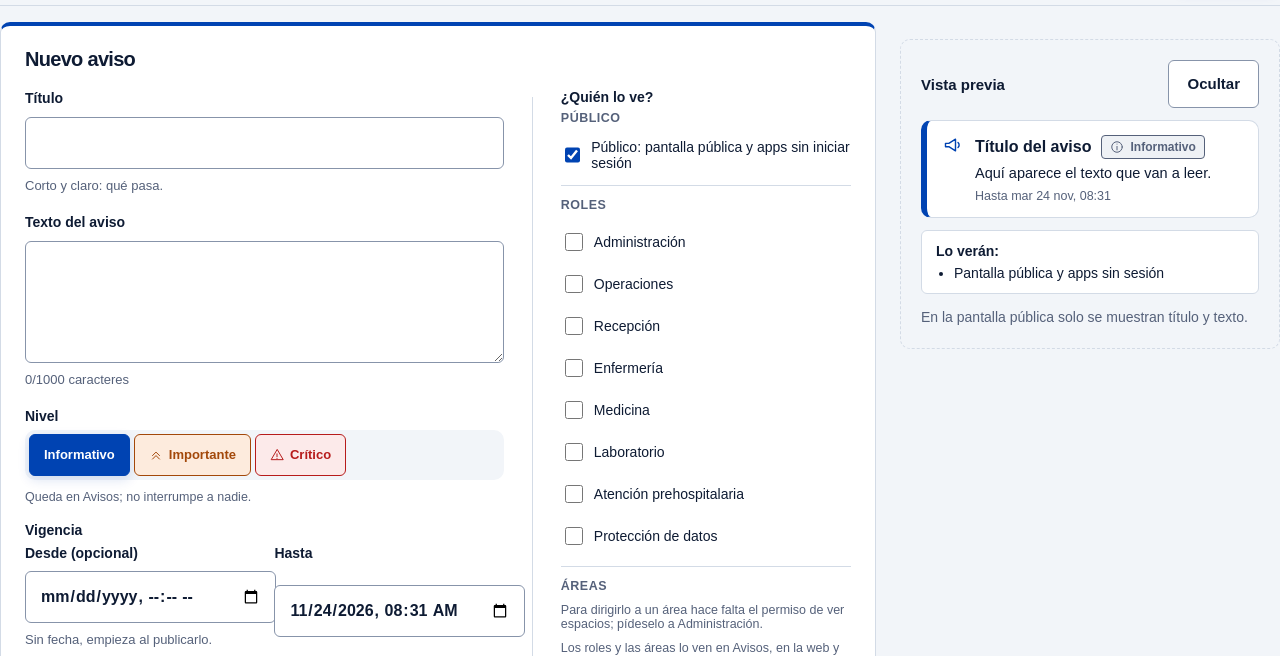
W25 · avisos generales › no deja publicar sin audiencia
In the field labelled "Título": {"x": 264, "y": 143} [25, 117, 504, 169], type "Aviso"
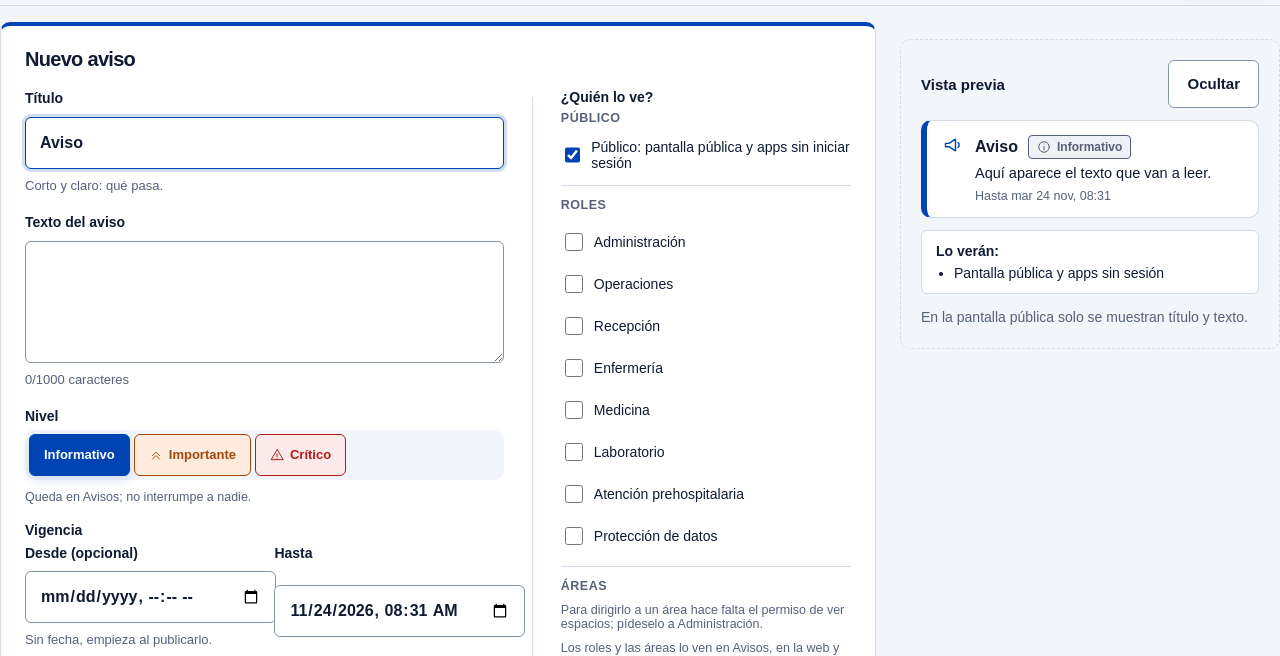
In the text box labelled "Texto del aviso": {"x": 264, "y": 302} [25, 241, 504, 363], type "Texto del aviso."
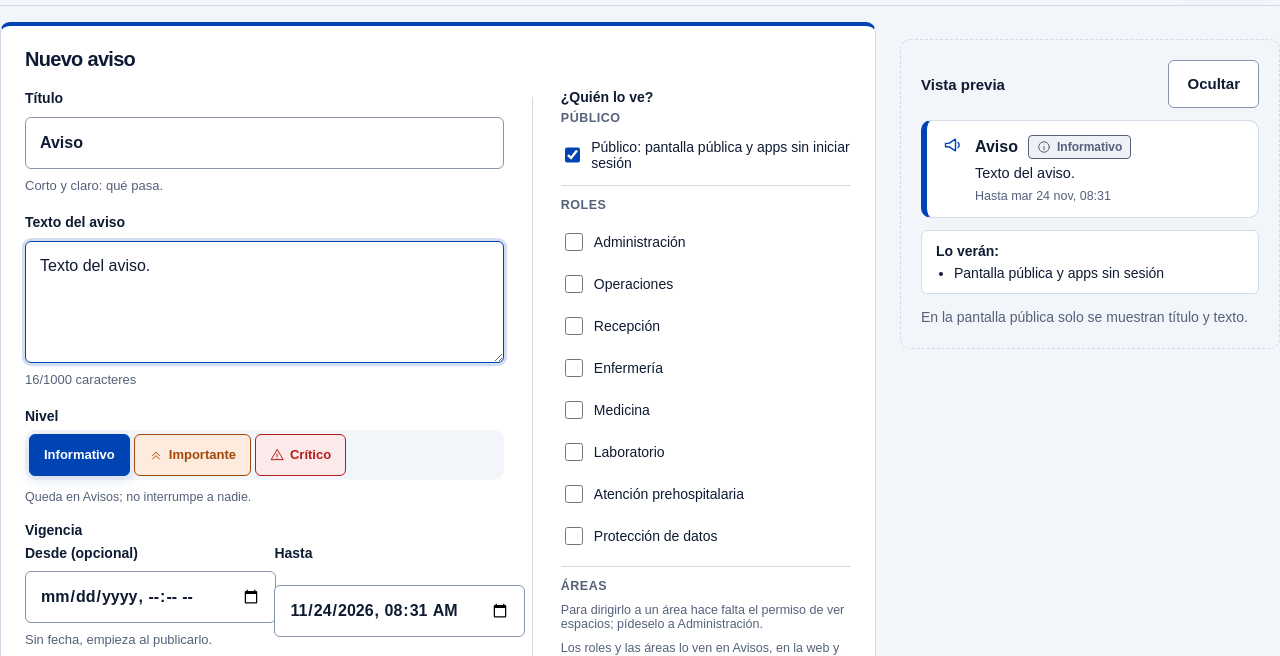
Click the checkbox labelled "Público: pantalla pública y apps sin iniciar sesión": {"x": 572, "y": 155} [565, 146, 580, 164]
(page scrolled)
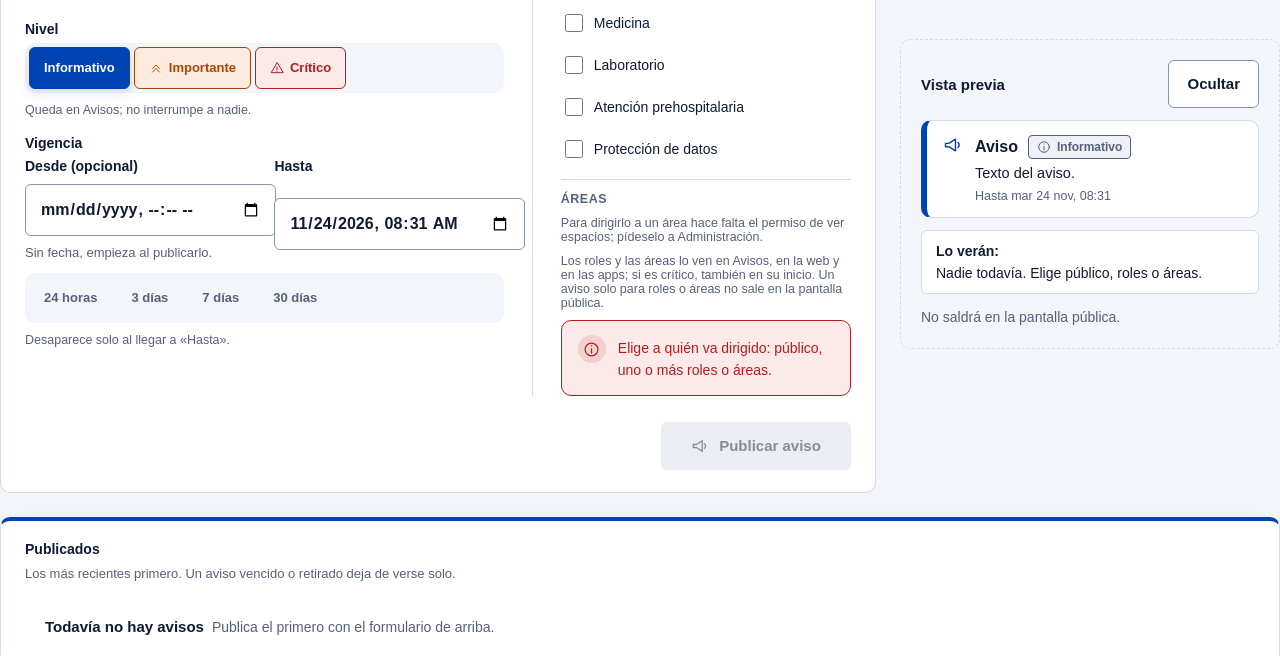
Expected: the text "Elige a quién va dirigido: público, uno o más roles o áreas." is shown, [618, 335, 834, 381]
Expected: the button "Publicar aviso" is disabled, [661, 422, 851, 470]
